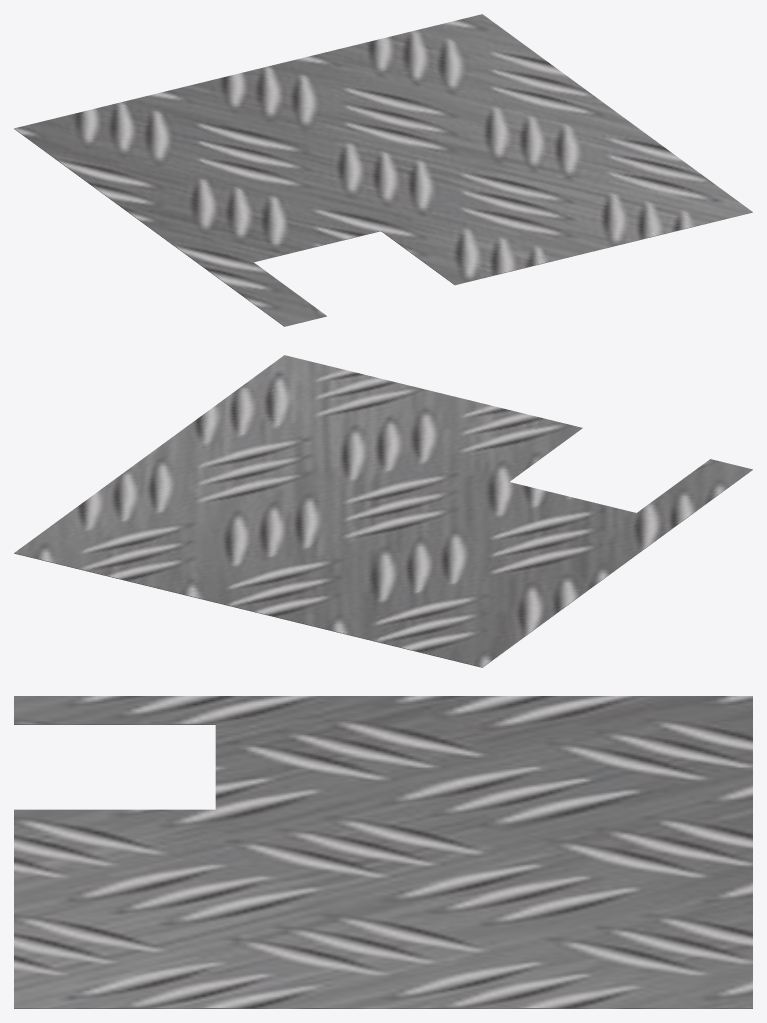
Rendered from floor2 with stairs.fbx.
3 views of the same model, one above another, from view 1: azimuth 30°, elevation 25°; view 2: azimuth 150°, elevation 25°; view 3: azimuth 270°, elevation 25° (orthographic). The views are drawn at different scales.
Parts seen in each view (by area): view 1: Cube; view 2: Cube; view 3: Cube.
Boxes of the visible parts, box(x1,y1,x2,y2) form: Cube: box(14, 14, 752, 326); Cube: box(14, 355, 752, 667); Cube: box(14, 696, 752, 1008).
Size of the model in its own units: 1000 by 0.9987 by 1000.
1 material, 1 textured.
